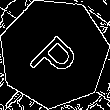P_NE: (23, 23, 85, 84)
